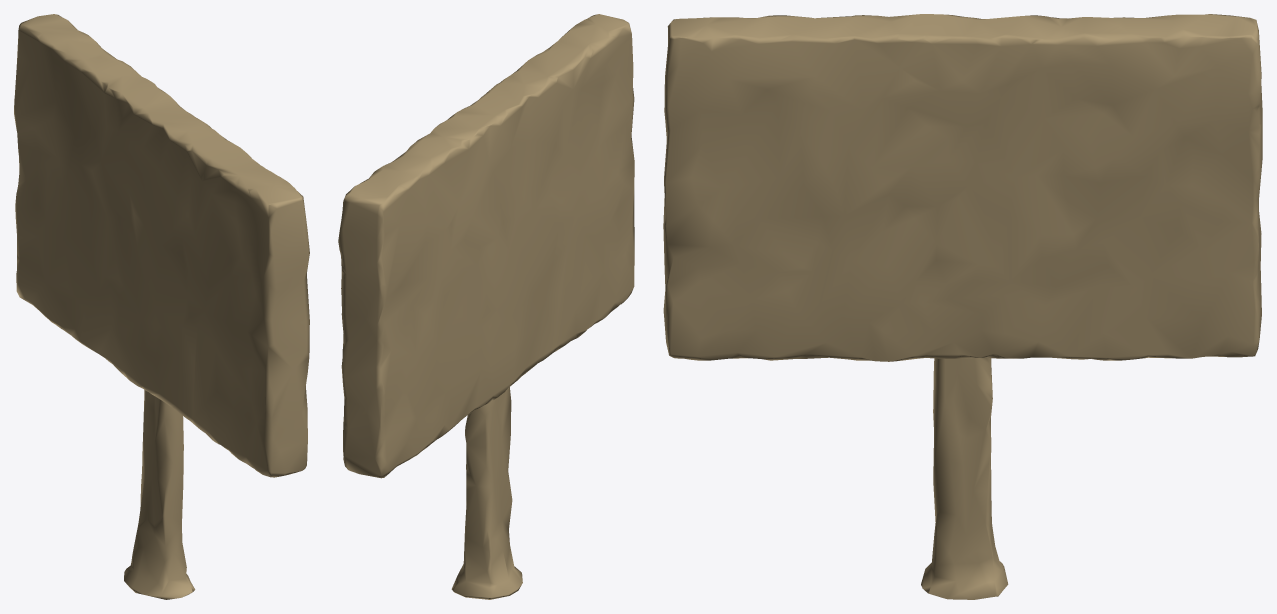
The model's file is Sign.fbx.
3 renders of one model, left to right at view 1: azimuth 30°, elevation 25°; view 2: azimuth 150°, elevation 25°; view 3: azimuth 270°, elevation 25°, orthographic. The views are drawn at different scales.
Parts seen in each view (by area): view 1: polySurface2; view 2: polySurface2; view 3: polySurface2.
Part boxes in pixels (x1,y1,x2,y2): polySurface2: (14,14,309,599); polySurface2: (338,14,634,599); polySurface2: (663,14,1262,599).
Bounding box in the file's own units: 1.46 × 11.89 × 11.43.
